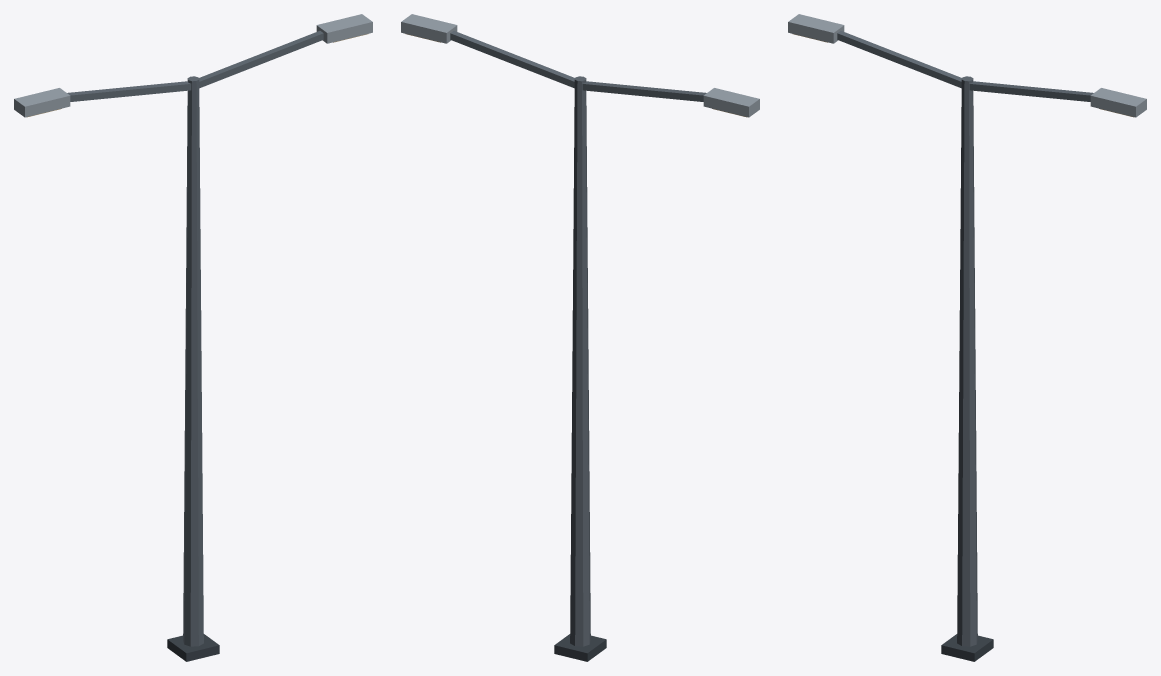
File: env_highway_light.fbx
3 renders of one model, left to right at view 1: azimuth 30°, elevation 25°; view 2: azimuth 150°, elevation 25°; view 3: azimuth 330°, elevation 25°, orthographic.
Visible parts, largest first — view 1: env_highway_light; view 2: env_highway_light; view 3: env_highway_light.
Part boxes in pixels (box(x1,y1,x2,y2)): env_highway_light: box(14, 14, 372, 661); env_highway_light: box(401, 14, 759, 661); env_highway_light: box(788, 14, 1146, 661).
Bounding box in the file's own units: 1680 × 2725 × 160.
